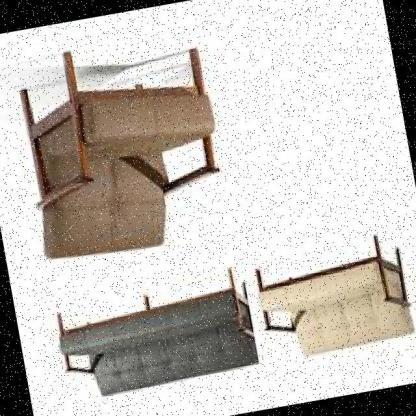Sofa: (38, 260, 265, 410), (242, 226, 416, 367)
